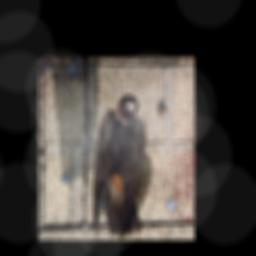Swallow: (91, 94, 147, 239)
